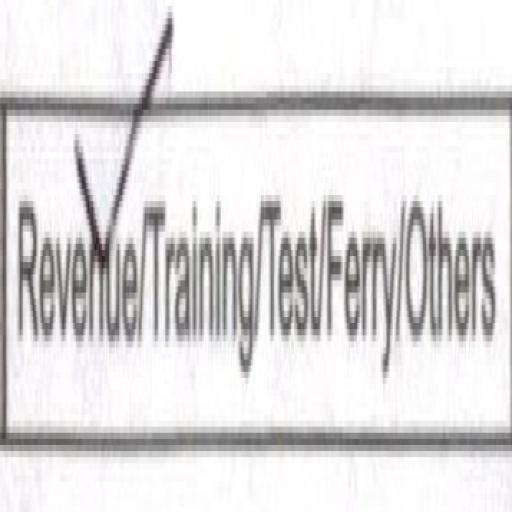check: (10, 35, 145, 484)
